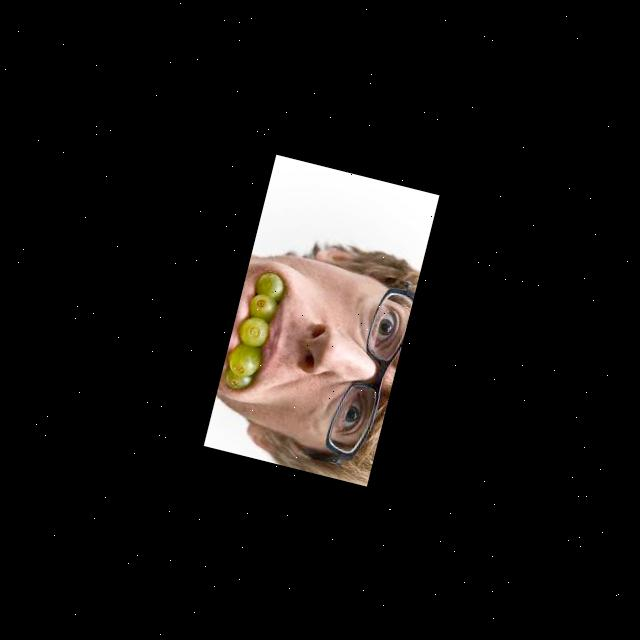grape: (220, 265, 287, 395)
